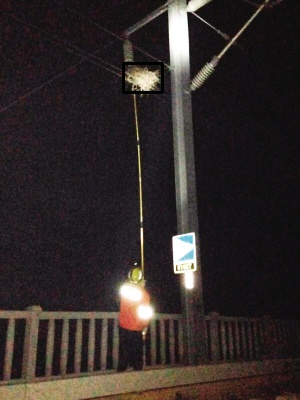bird-nest: (123, 66, 161, 90)
